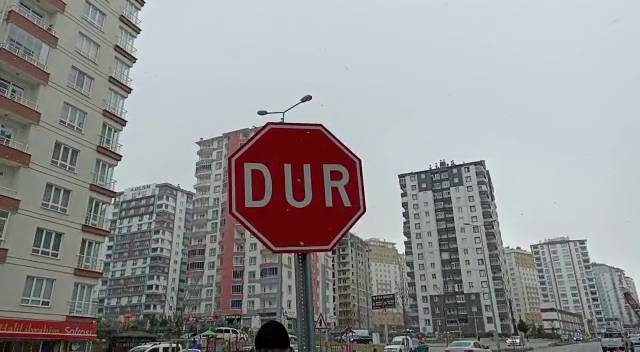stop: (226, 120, 368, 257)
